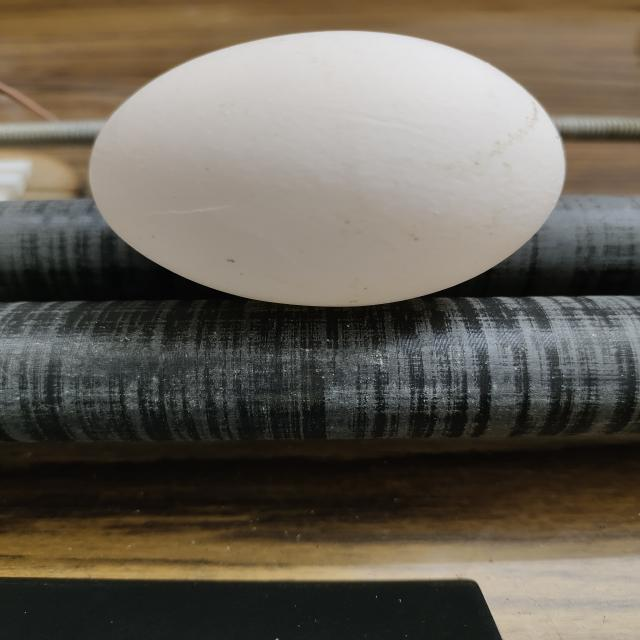Eggs: (87, 27, 568, 306)
